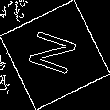N_E: (25, 28, 85, 82)
